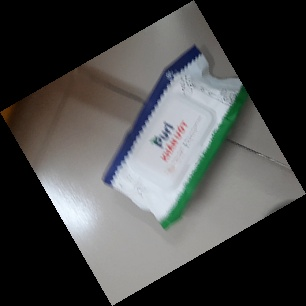Puri Trang: (100, 44, 254, 230)
